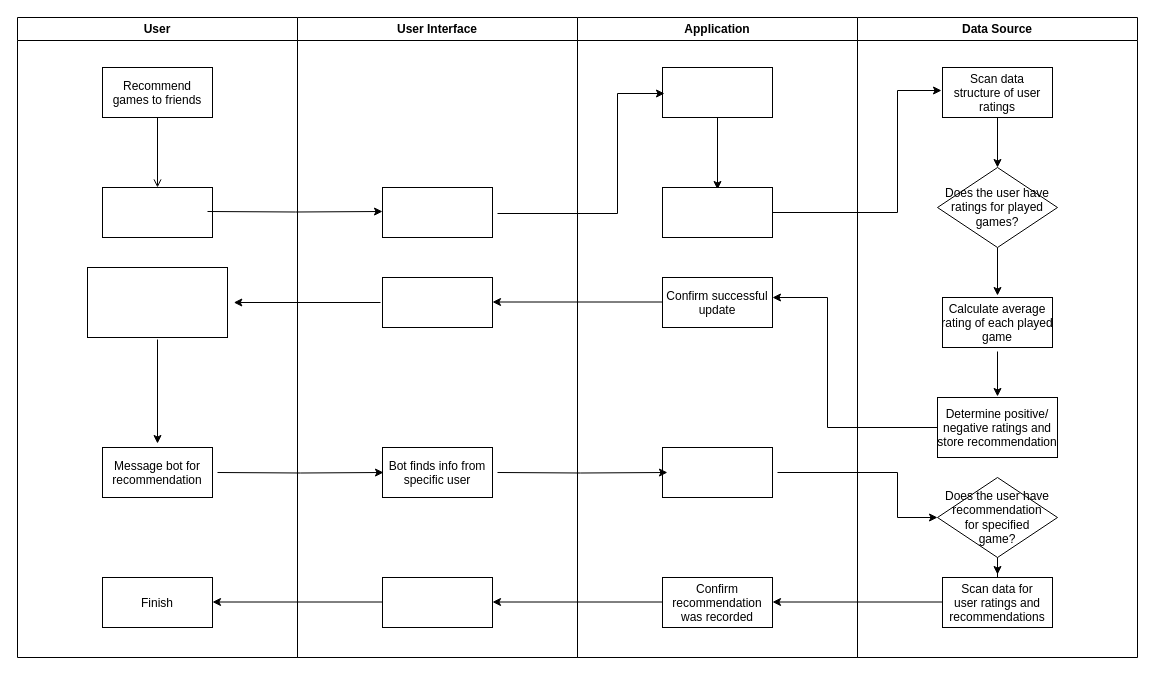
This 1155x675 diagram has some shape labels left out. Each missing label, with the centre of its shape:
"Recommendations have been updated.": pixel 437 302
Access recommendations from specified user: pixel 717 472
Access user ratings: pixel 717 212
Bot relays info to plugin application: pixel 437 212
Display user recommendation through bot: pixel 437 602
Launch application: pixel 717 92
Message bot to share ratings: pixel 157 212
Other users can now view recommendations through the bot: pixel 157 302
